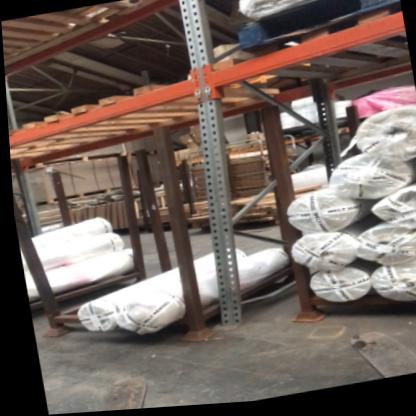vertical_damage: (206, 299, 255, 339)
